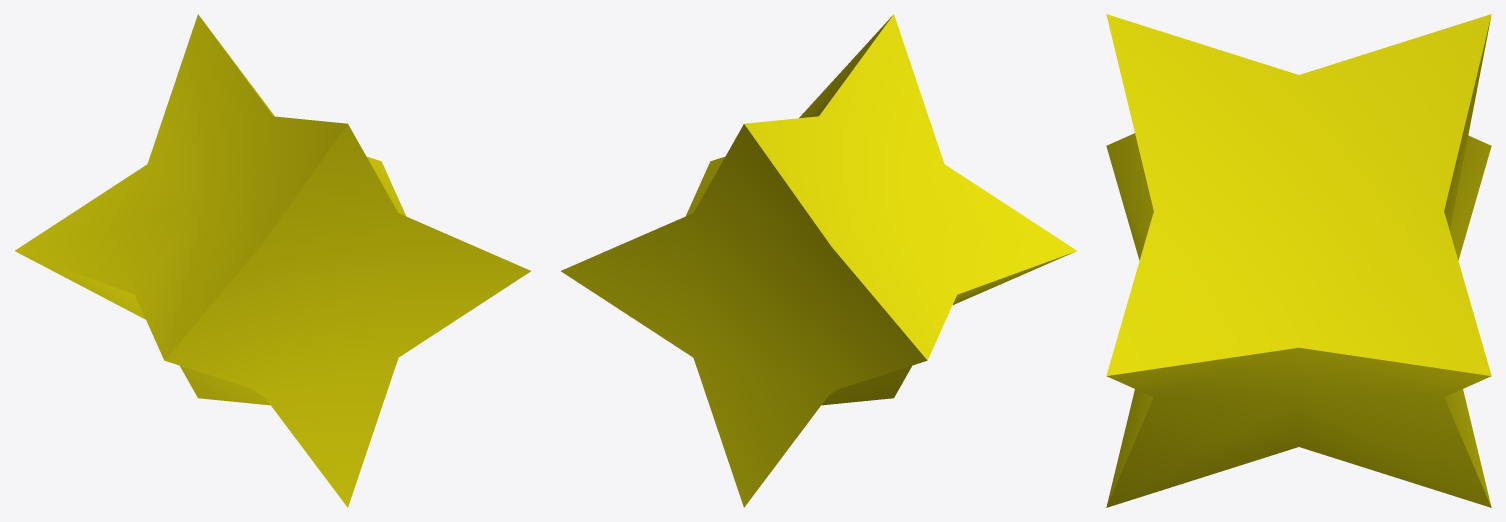
Rendered from ChristmasDecoDiamond.fbx.
The picture shows the model from 3 angles, left to right: view 1: azimuth 30°, elevation 25°; view 2: azimuth 150°, elevation 25°; view 3: azimuth 270°, elevation 25°; orthographic projection. The views are drawn at different scales.
Parts seen in each view (by area): view 1: Christmas_Tree_Diamond; view 2: Christmas_Tree_Diamond; view 3: Christmas_Tree_Diamond.
Boxes of the visible parts, left/top/right/bottom form: Christmas_Tree_Diamond: left=15, top=14, right=530, bottom=507; Christmas_Tree_Diamond: left=561, top=14, right=1076, bottom=507; Christmas_Tree_Diamond: left=1106, top=14, right=1491, bottom=507.
Size of the model in its own units: 24.89 by 24.89 by 17.6.
